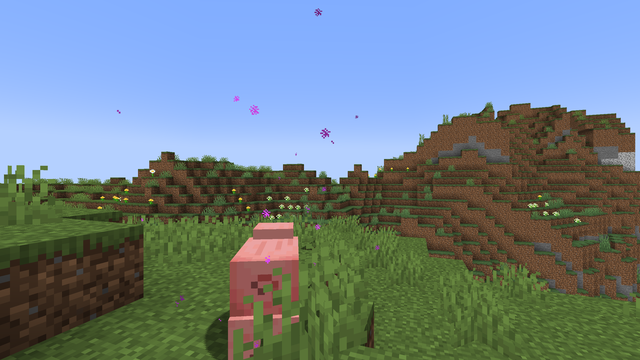cochons: (207, 233, 320, 355)
